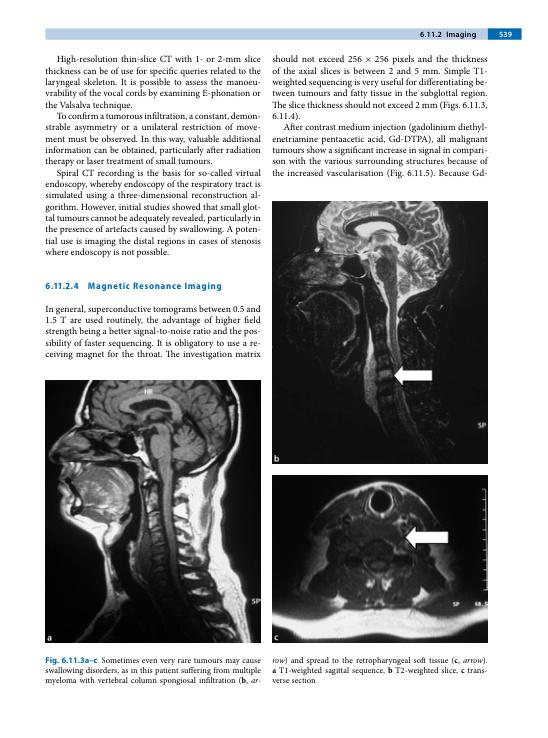caption: (44, 656, 262, 687), (271, 655, 488, 685), (273, 454, 280, 463), (46, 634, 53, 642), (273, 634, 280, 641)
header: (446, 30, 477, 40)
image: (44, 379, 261, 643), (272, 201, 488, 464), (272, 475, 488, 643)
sub-section-heading: (87, 281, 223, 292)
text: (43, 53, 263, 259), (271, 53, 490, 180), (44, 303, 261, 361)
